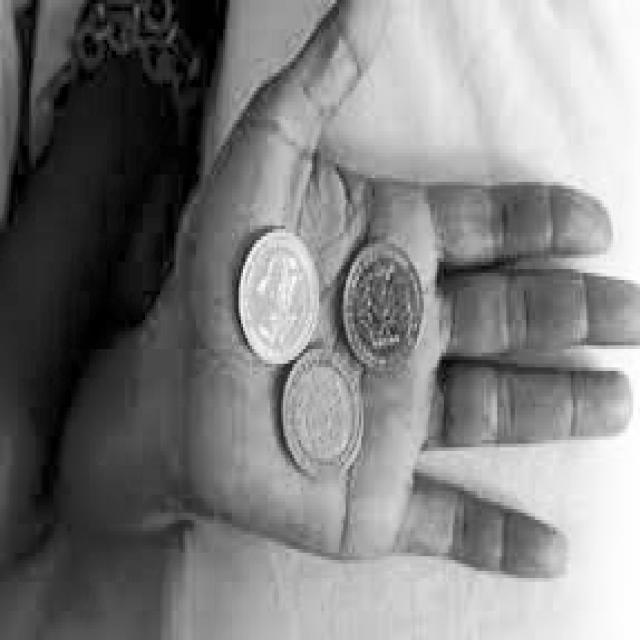teemeer: (239, 230, 317, 365), (343, 243, 424, 371), (283, 349, 363, 475)
